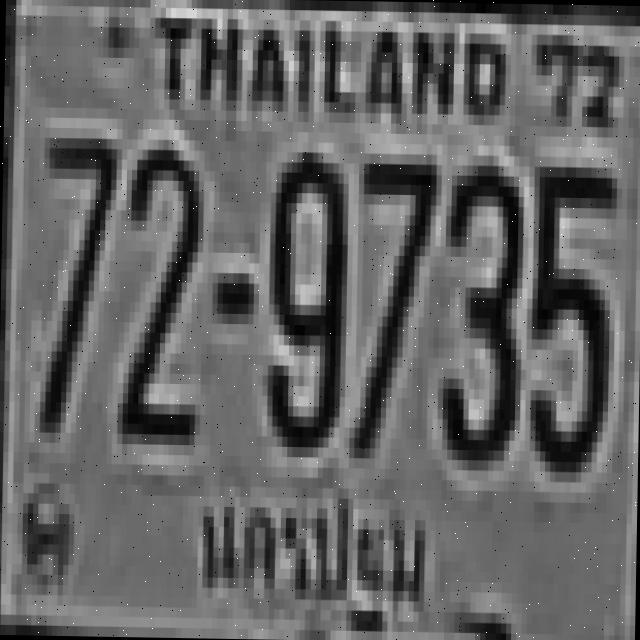2: (116, 138, 200, 434)
3: (436, 155, 519, 461)
5: (524, 156, 612, 462)
7: (348, 142, 432, 448), (36, 132, 114, 428)
9: (261, 141, 344, 447)
NakhonPathom: (188, 473, 437, 638)
